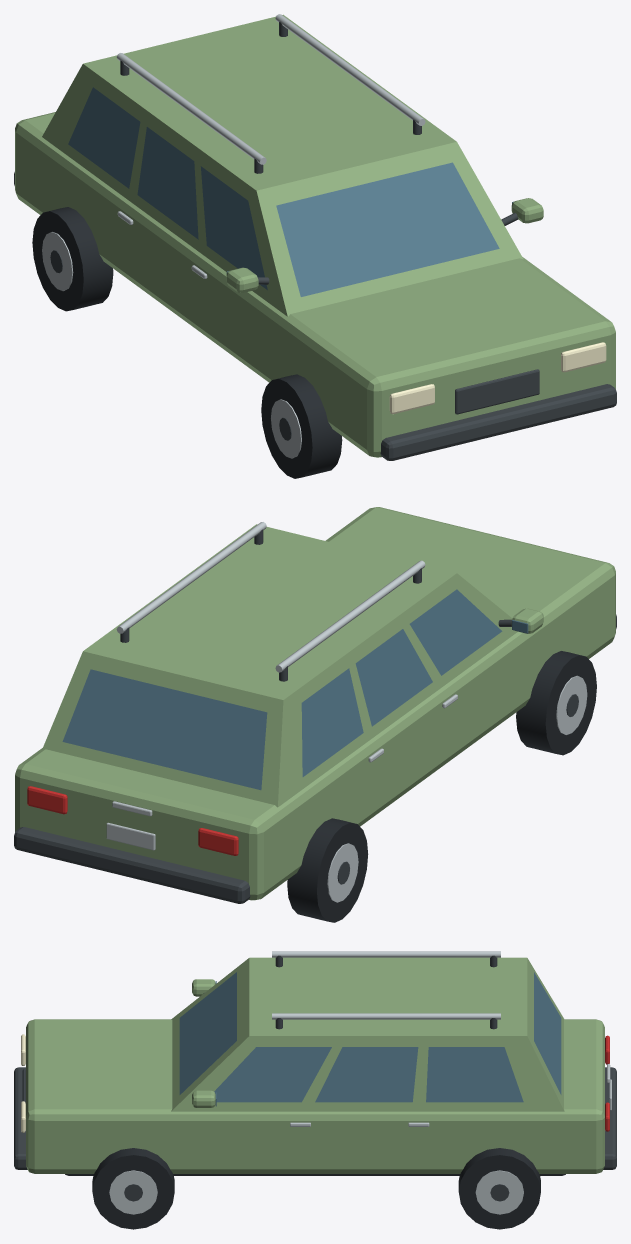
File: car_station_wagon.glb
3 views of the same model, one above another, from view 1: azimuth 30°, elevation 25°; view 2: azimuth 150°, elevation 25°; view 3: azimuth 270°, elevation 25° (orthographic). The views are drawn at different scales.
Visible parts, largest first — view 1: Main body, Estate wagon cabin shell, Estate wagon windshield, Front bumper, Left rear wheel tire, Left front wheel tire, Estate wagon left window 2, Estate wagon left window 3, Estate wagon left window 1, Front grille, Roof rail.001, Roof rail (+6 smaller); view 2: Main body, Estate wagon cabin shell, Estate wagon rear glass, Rear bumper, Left rear wheel tire, Left front wheel tire, Estate wagon left window 3, Estate wagon left window 2, Estate wagon left window 1, Roof rail, Roof rail.001, Left rear wheel rim (+4 smaller); view 3: Main body, Estate wagon cabin shell, Estate wagon right window 2, Estate wagon right window 3, Estate wagon right window 1, Estate wagon windshield, Right front wheel tire, Right rear wheel tire, Estate wagon rear glass, Roof rail, Roof rail.001, Right front wheel rim (+5 smaller).
Boxes of the visible parts, x1=… form: Main body: x1=15, y1=112, x2=615, y2=457; Estate wagon cabin shell: x1=42, y1=14, x2=523, y2=316; Estate wagon windshield: x1=276, y1=162, x2=499, y2=296; Front bumper: x1=380, y1=384, x2=616, y2=460; Left rear wheel tire: x1=32, y1=207, x2=113, y2=311; Left front wheel tire: x1=261, y1=374, x2=342, y2=478; Estate wagon left window 2: x1=137, y1=127, x2=198, y2=239; Estate wagon left window 3: x1=68, y1=87, x2=140, y2=188; Estate wagon left window 1: x1=200, y1=166, x2=267, y2=290; Front grille: x1=455, y1=369, x2=539, y2=414; Roof rail.001: x1=275, y1=14, x2=425, y2=125; Roof rail: x1=116, y1=53, x2=266, y2=164; Main body: x1=15, y1=507, x2=615, y2=900; Estate wagon cabin shell: x1=42, y1=524, x2=517, y2=807; Estate wagon rear glass: x1=62, y1=669, x2=267, y2=790; Rear bumper: x1=14, y1=827, x2=250, y2=903; Left rear wheel tire: x1=287, y1=818, x2=368, y2=922; Left front wheel tire: x1=516, y1=651, x2=596, y2=755; Estate wagon left window 3: x1=301, y1=668, x2=363, y2=776; Estate wagon left window 2: x1=355, y1=629, x2=432, y2=726; Estate wagon left window 1: x1=409, y1=589, x2=502, y2=675; Roof rail: x1=275, y1=560, x2=425, y2=672; Roof rail.001: x1=116, y1=522, x2=266, y2=633; Left rear wheel rim: x1=327, y1=843, x2=358, y2=902; Main body: x1=26, y1=1019, x2=604, y2=1173; Estate wagon cabin shell: x1=171, y1=957, x2=564, y2=1111; Estate wagon right window 2: x1=315, y1=1047, x2=418, y2=1102; Estate wagon right window 3: x1=426, y1=1047, x2=523, y2=1102; Estate wagon right window 1: x1=214, y1=1047, x2=331, y2=1102; Estate wagon windshield: x1=179, y1=972, x2=236, y2=1094; Right front wheel tire: x1=92, y1=1148, x2=174, y2=1229; Right rear wheel tire: x1=458, y1=1148, x2=540, y2=1229; Estate wagon rear glass: x1=534, y1=972, x2=561, y2=1094; Roof rail: x1=272, y1=951, x2=500, y2=957; Roof rail.001: x1=272, y1=1013, x2=500, y2=1019; Right front wheel rim: x1=109, y1=1170, x2=157, y2=1214.
Bounding box in the file's own units: 2.28 × 1.7 × 4.84.
